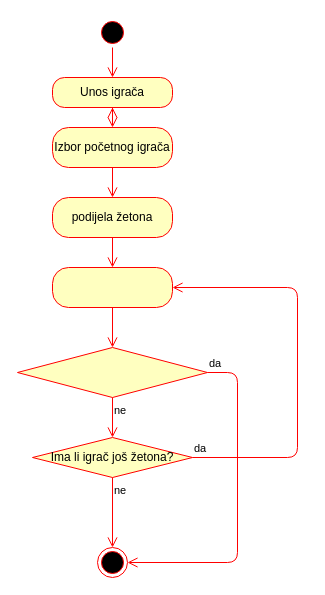
The diagram is 325 pixels wide and 595 high, and some of its shapes have lost their labels. Each missing label, with the centre of its shape:
"Provjera: jesu li sva 4 žetona poveznana" belongs at (112,372).
"ubacivanje žetona" belongs at (112,287).
